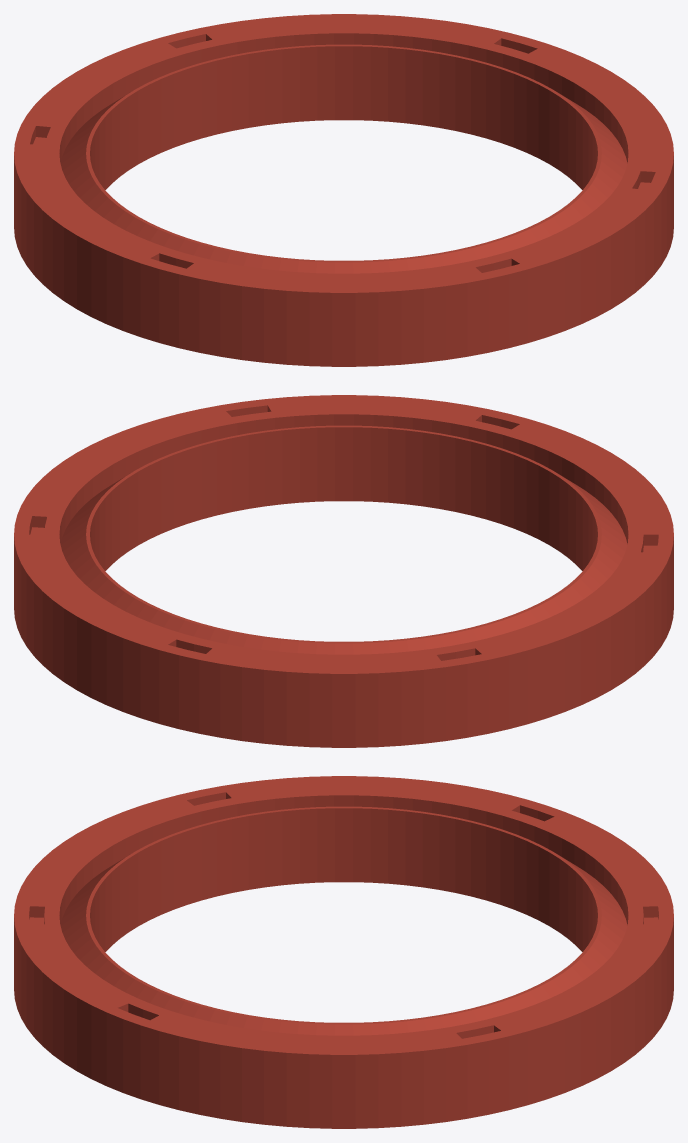
The model's file is red-silicone-gasket.glb.
3 views of the same model, one above another, from view 1: azimuth 30°, elevation 25°; view 2: azimuth 150°, elevation 25°; view 3: azimuth 270°, elevation 25° (orthographic).
Parts seen in each view (by area): view 1: Cylinder.001; view 2: Cylinder.001; view 3: Cylinder.001.
Boxes of the visible parts, left/top/right/bottom form: Cylinder.001: left=14, top=14, right=673, bottom=366; Cylinder.001: left=14, top=395, right=673, bottom=747; Cylinder.001: left=14, top=776, right=673, bottom=1128.
Bounding box in the file's own units: 2 × 0.2473 × 2.
